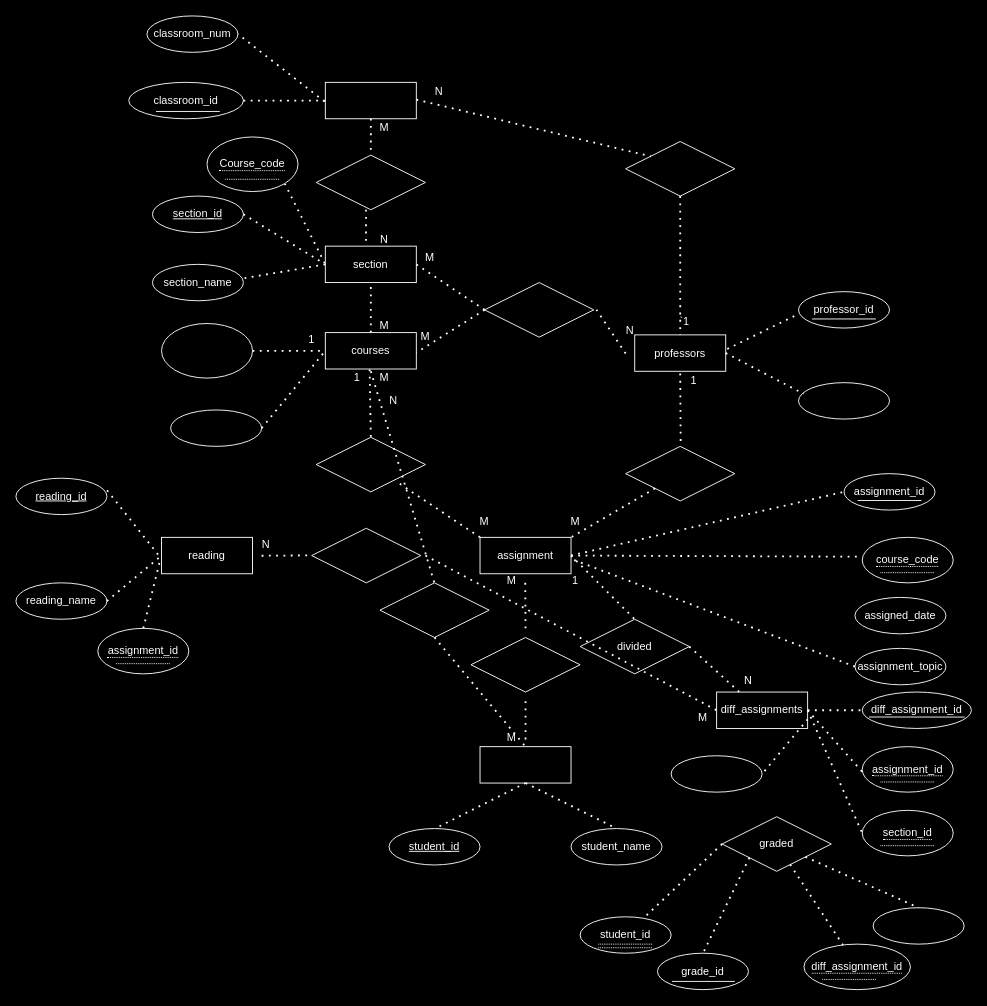
The diagram is 987 pixels wide and 1006 high, and some of its shapes have lost their labels. The shapes that lost their labels are listed below. From the top down, each one's box as (x1, y1, x2, y2) in pixels, then its label:
(324, 81, 416, 119): classroom
(315, 154, 425, 210): taught in
(625, 141, 735, 196): teaches in
(484, 282, 594, 337): teaches
(161, 323, 253, 378): course_id
(798, 382, 890, 419): professor_email
(170, 409, 262, 446): course_name
(315, 436, 425, 492): have
(625, 445, 735, 501): assigns
(311, 527, 421, 583): has
(379, 582, 489, 637): enrolled
(470, 637, 580, 692): completes
(479, 746, 571, 783): students
(670, 755, 762, 792): due_date
(872, 907, 964, 944): grade
